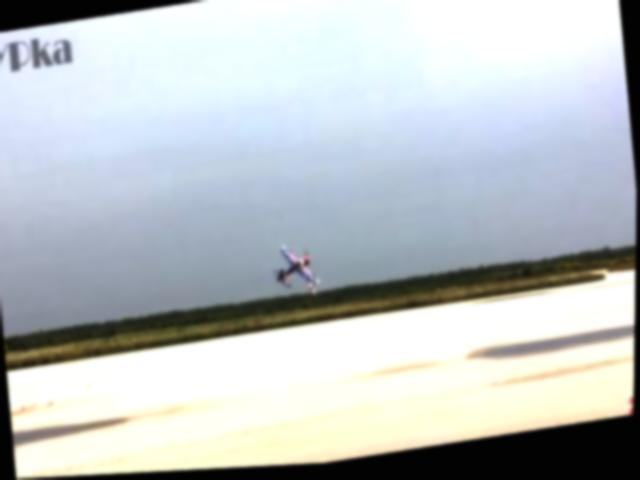uav: (269, 239, 325, 299)
